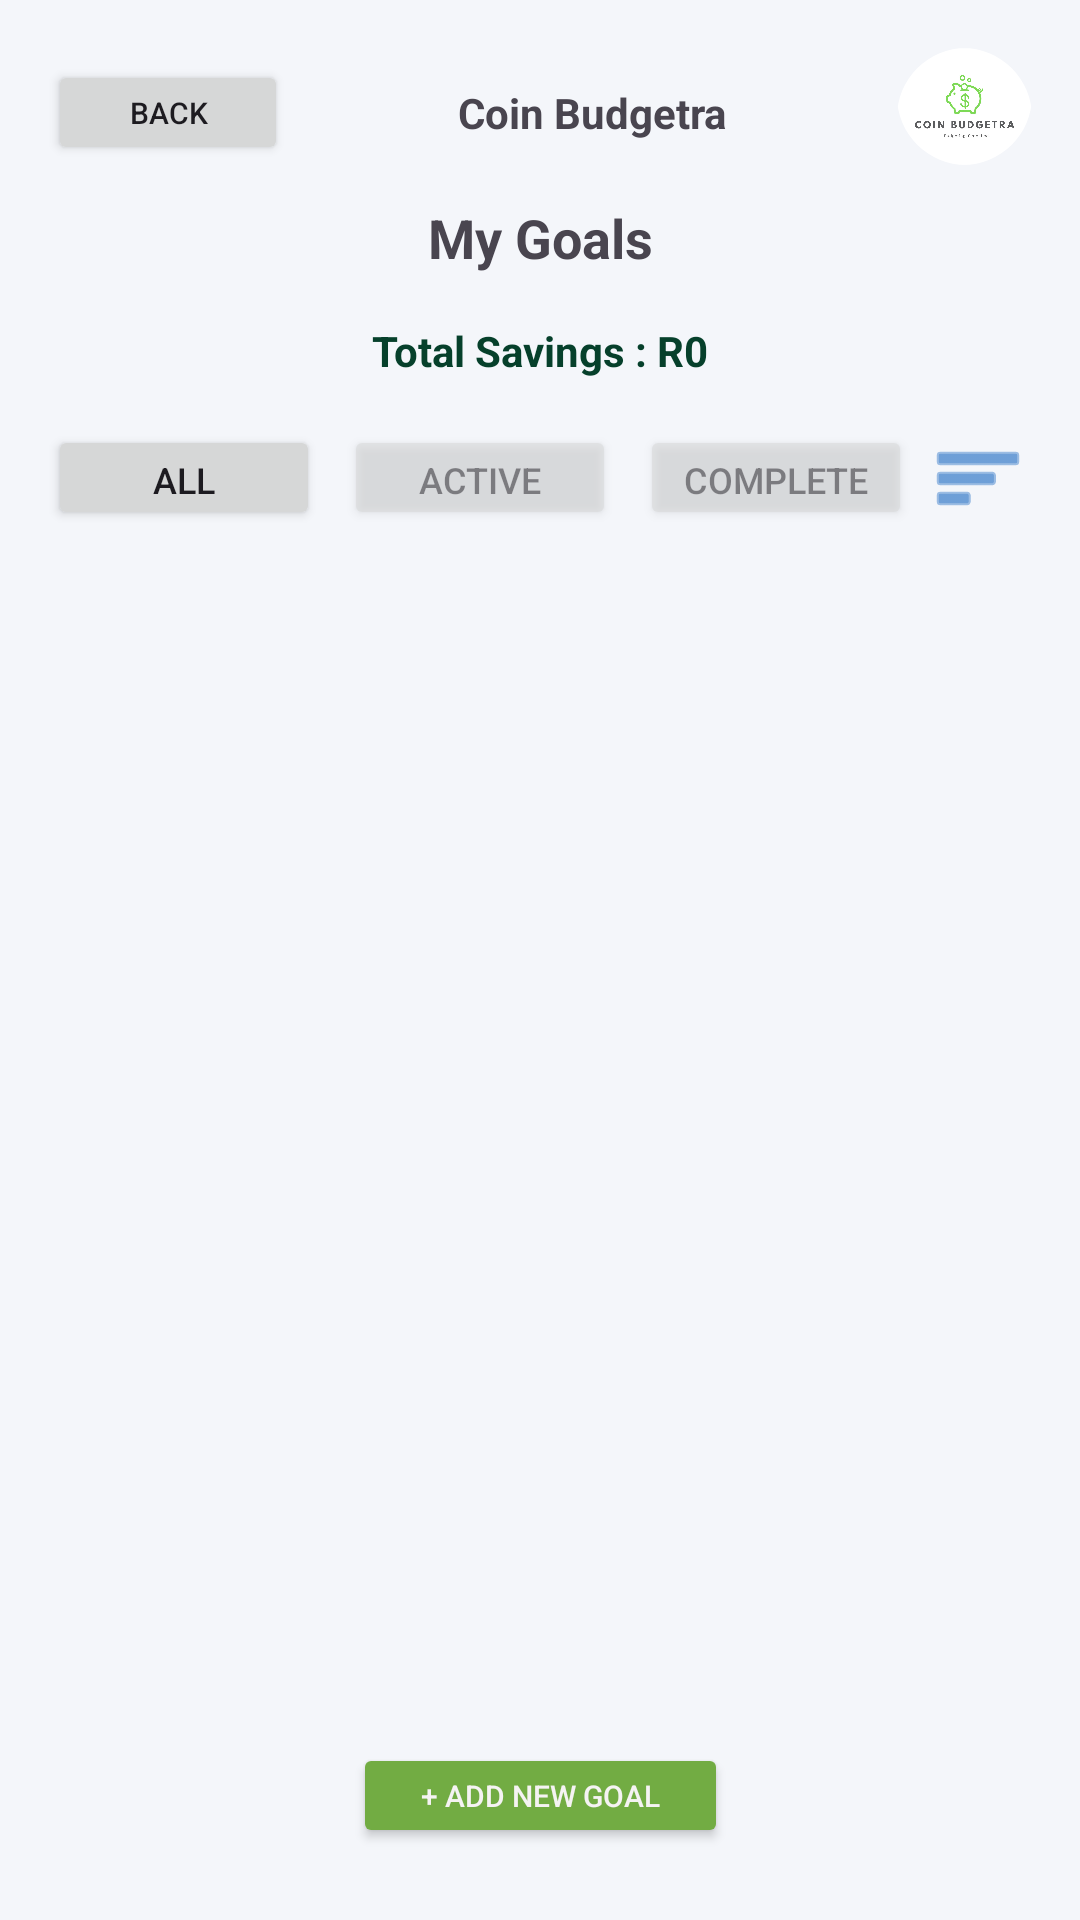

Named icons in this screenshot (1080px×1920px) and their centers, (x=x, y=y):
Filter goals: (x=978, y=478)
